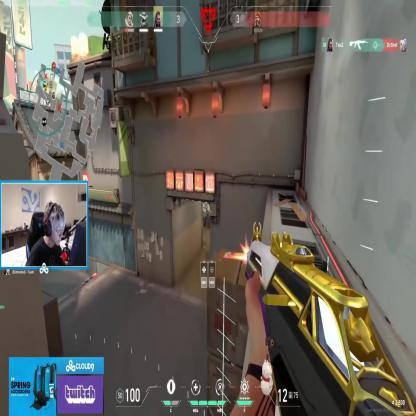enemy: (203, 199, 211, 228)
